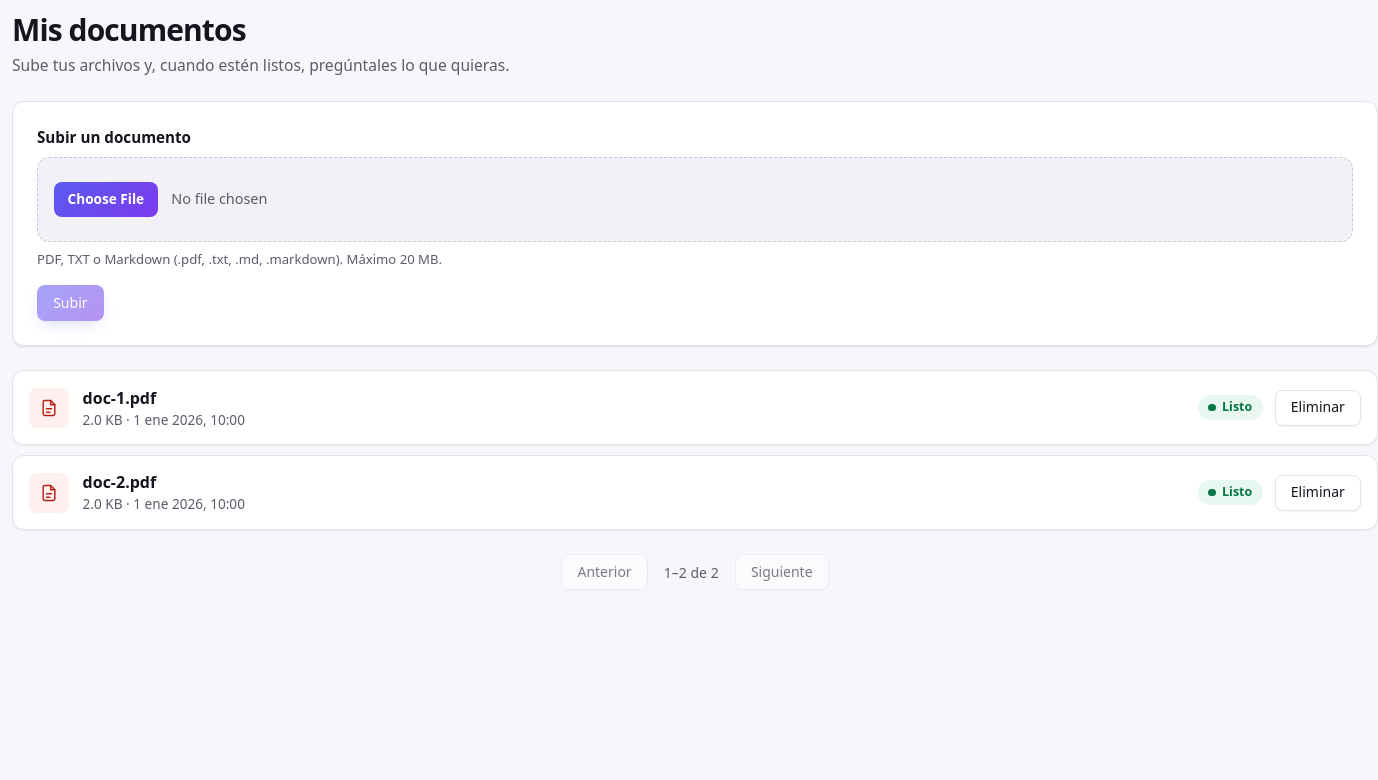
Scenario: eliminar documentos › pide confirmación y el documento desaparece al eliminarlo
The width and height of the screenshot is (1378, 780).
Expected: the text "doc-1.pdf" is shown, 83,387 -> 156,409
Click the button with aria-label "Eliminar doc-1.pdf". click: (1318, 408)
box: 1275,390 -> 1361,426
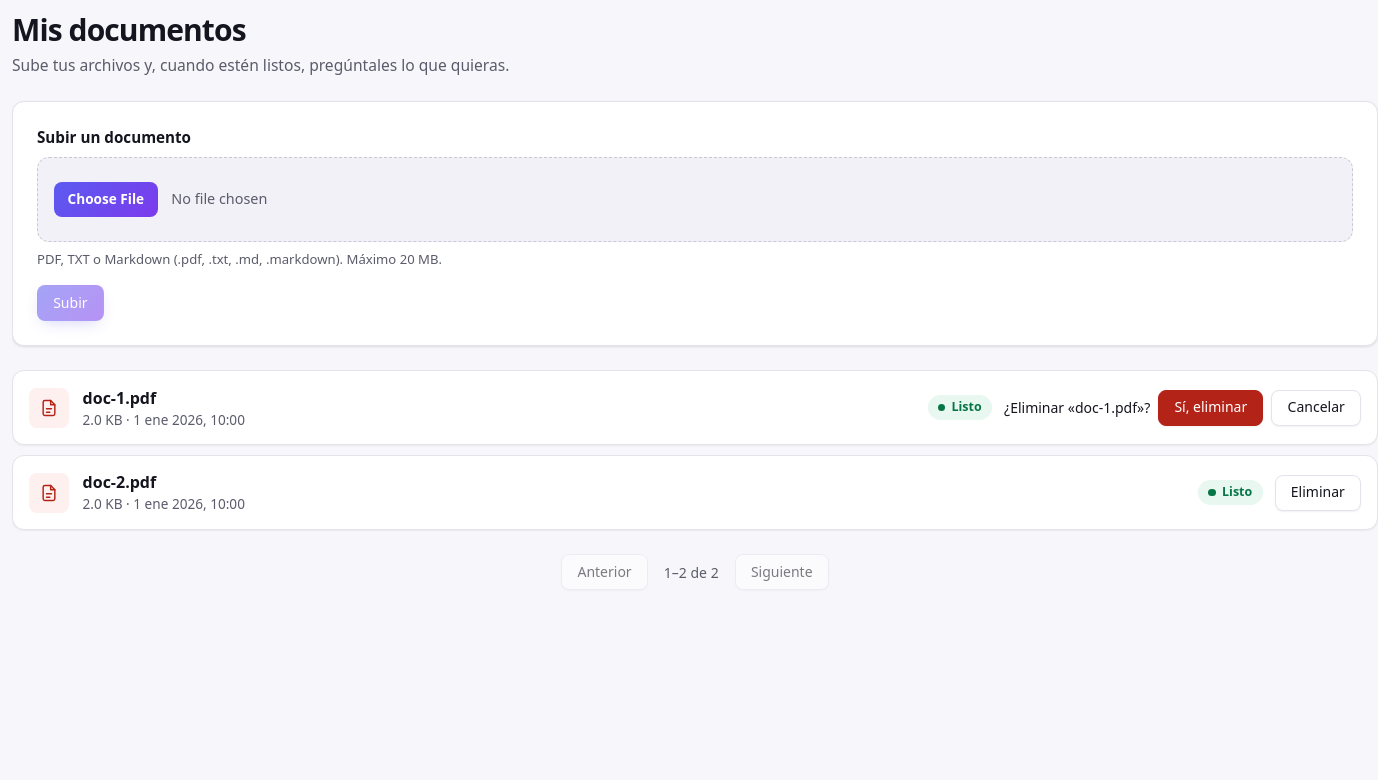
Click the button "Sí, eliminar". click: (1211, 408)
box: 1158,390 -> 1263,426
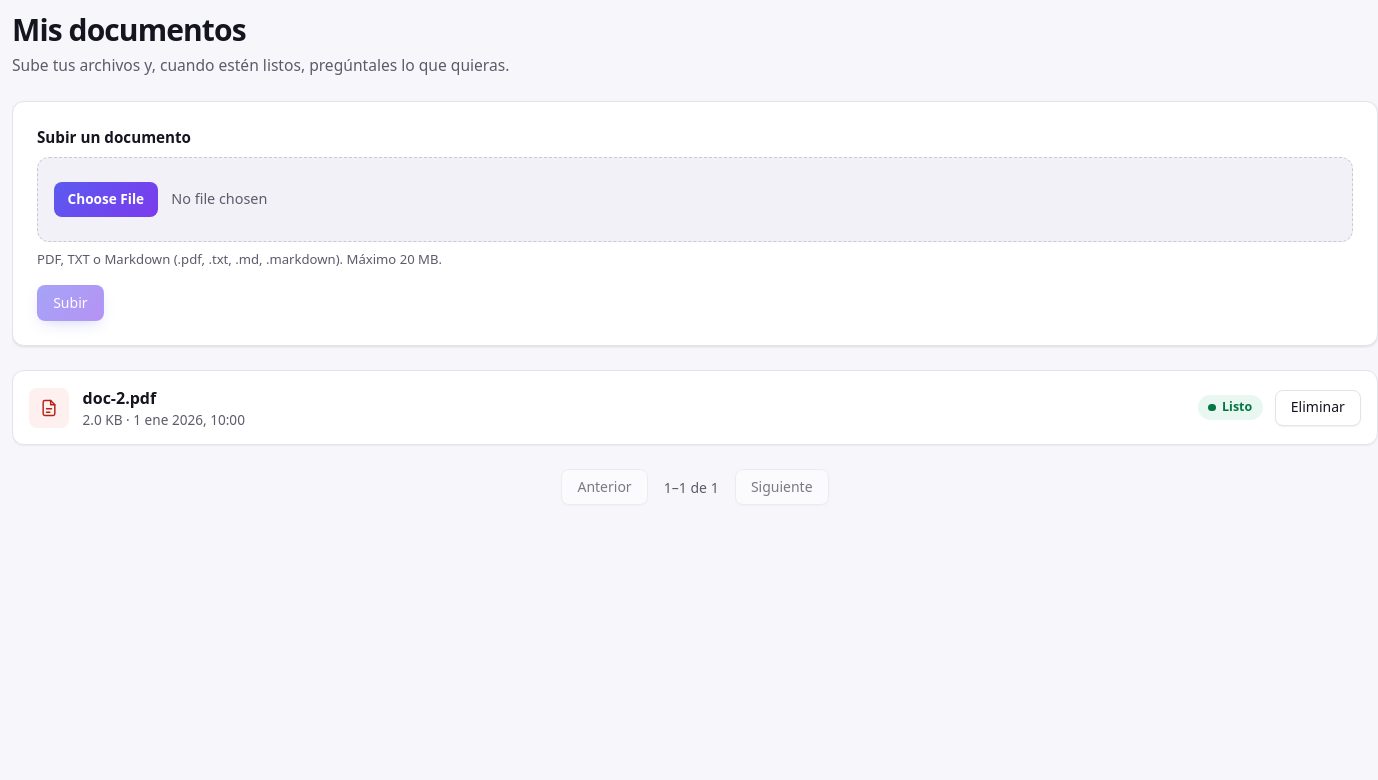
Expected: the text "doc-2.pdf" is shown, 83,387 -> 156,409
Expected: the text "doc-1.pdf" is gone
Expected: the text "1–1 de 1" is shown, 664,477 -> 719,498
